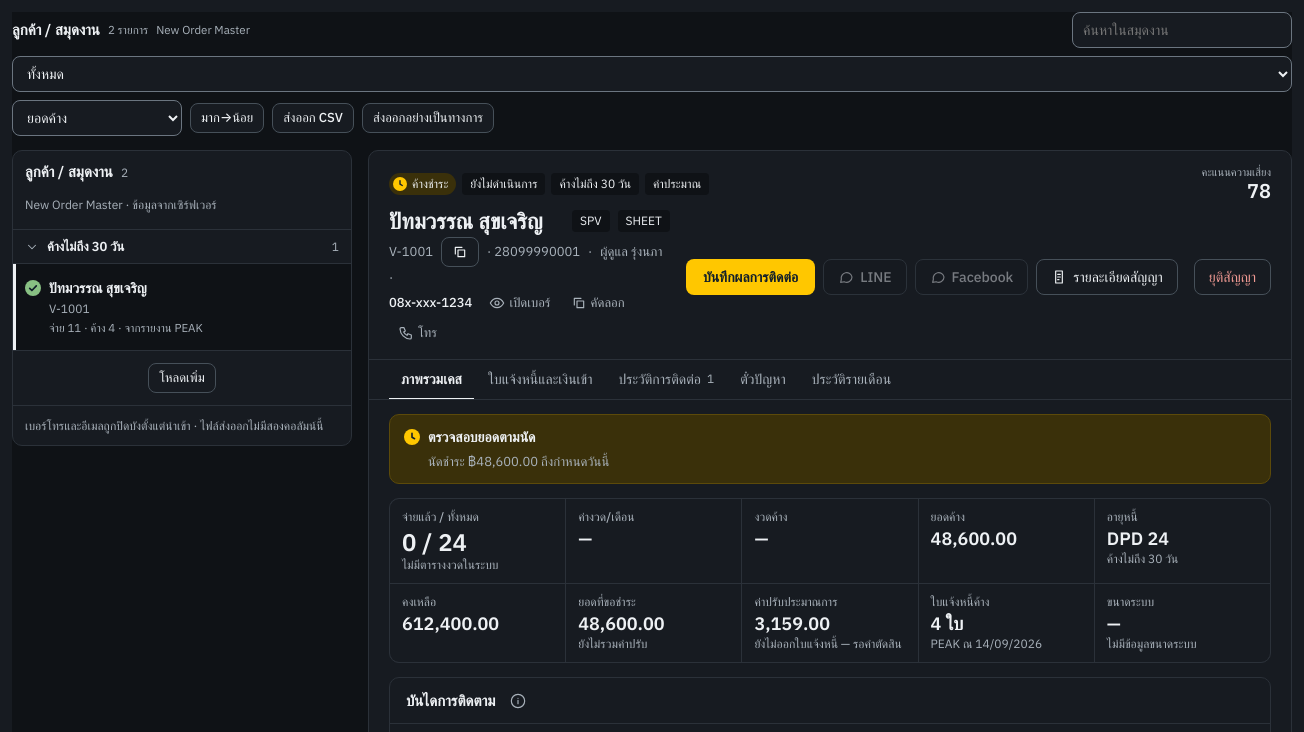
Test: Book › restarts from page one when a load-more cursor becomes stale
This screenshot has width=1304, height=732.
Expected: the text "ปัทมวรรณ สุขเจริญ" is shown, [49,278,147,298]
What coordinates should you click on to do the following:
click the button "โหลดเพิ่ม"
I would click on:
 (182, 378)
Its box is [148,363,216,393].
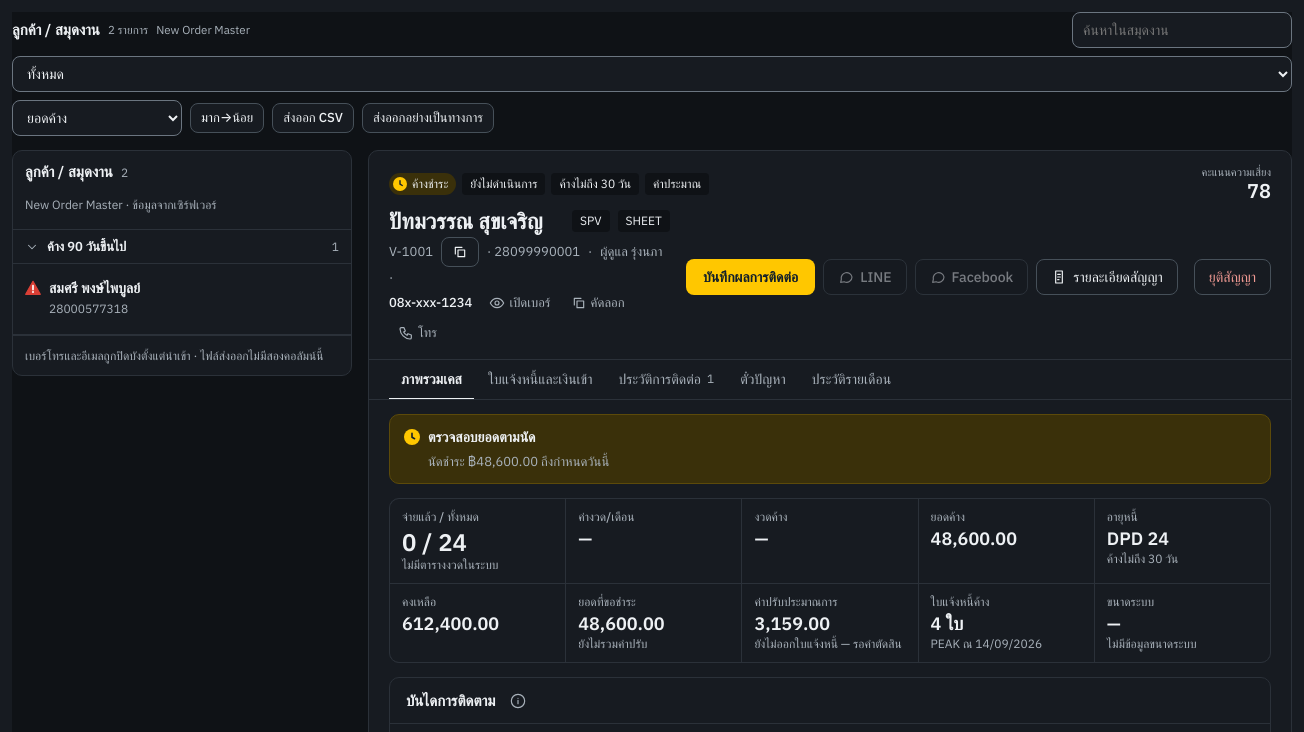
Result: the text "สมศรี พงษ์ไพบูลย์" is shown at [49,278,140,298]
